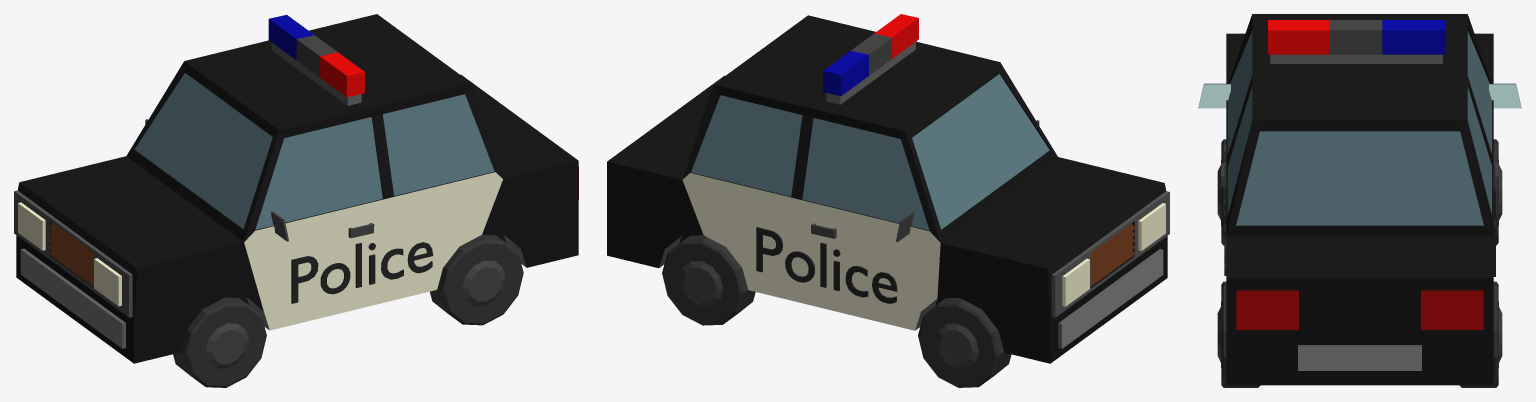
Rendered from Police.glb.
The picture shows the model from 3 angles, left to right: view 1: azimuth 30°, elevation 25°; view 2: azimuth 150°, elevation 25°; view 3: azimuth 270°, elevation 25°; orthographic projection. The views are drawn at different scales.
Parts seen in each view (by area): view 1: Police; view 2: Police; view 3: Police.
Boxes of the visible parts, <box> form: Police: <box>14,14,578,387</box>; Police: <box>607,14,1169,387</box>; Police: <box>1198,14,1521,387</box>.
Bounding box in the file's own units: 3.35 × 1.85 × 1.81.
Materials: 1 (1 with a texture image).
